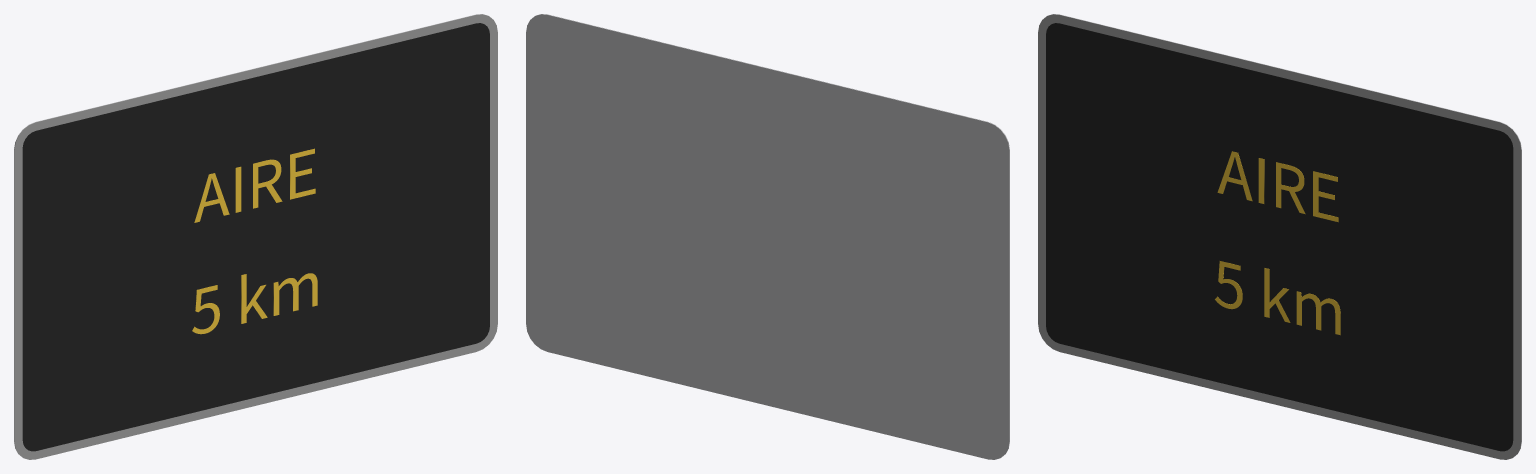
3 views of the same model, side by side, from view 1: azimuth 30°, elevation 25°; view 2: azimuth 150°, elevation 25°; view 3: azimuth 330°, elevation 25° (orthographic).
Parts seen in each view (by area): view 1: X2_r01, X2_r00, X2_txt02, X2_txt03, X2_dos; view 2: X2_dos, X2_r00; view 3: X2_r01, X2_r00, X2_txt02, X2_txt03, X2_dos.
Boxes of the visible parts, <box> form: X2_r01: <box>22,23,489,451</box>; X2_r00: <box>14,14,497,459</box>; X2_txt02: <box>194,148,315,222</box>; X2_txt03: <box>192,273,317,334</box>; X2_dos: <box>14,14,487,452</box>; X2_dos: <box>526,14,1009,459</box>; X2_r00: <box>542,14,1009,448</box>; X2_r01: <box>1046,23,1513,451</box>; X2_r00: <box>1038,14,1521,459</box>; X2_txt02: <box>1217,151,1338,222</box>; X2_txt03: <box>1215,261,1340,335</box>; X2_dos: <box>1048,14,1521,452</box>.
Size of the model in its own units: 0.9 by 0.6 by 0.0029.
